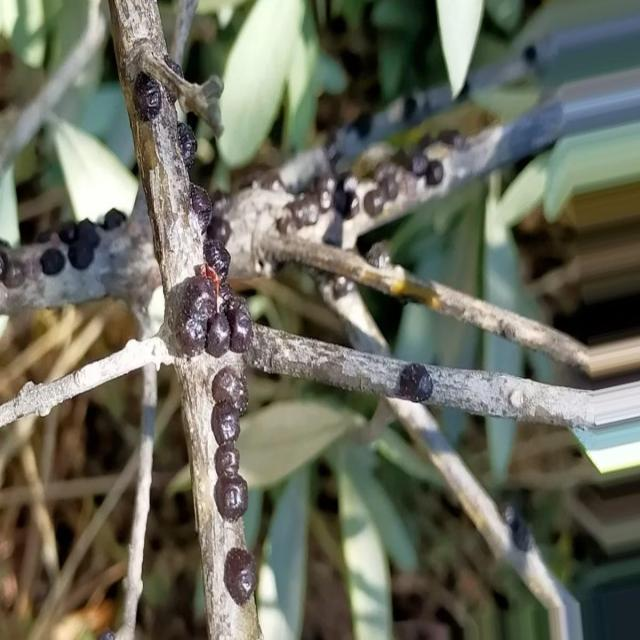BlackScale: (161, 237, 252, 357), (210, 367, 248, 518), (223, 548, 254, 606), (396, 364, 433, 403), (134, 72, 161, 121), (189, 182, 212, 231), (177, 121, 197, 169), (364, 187, 386, 226), (39, 246, 66, 276)
